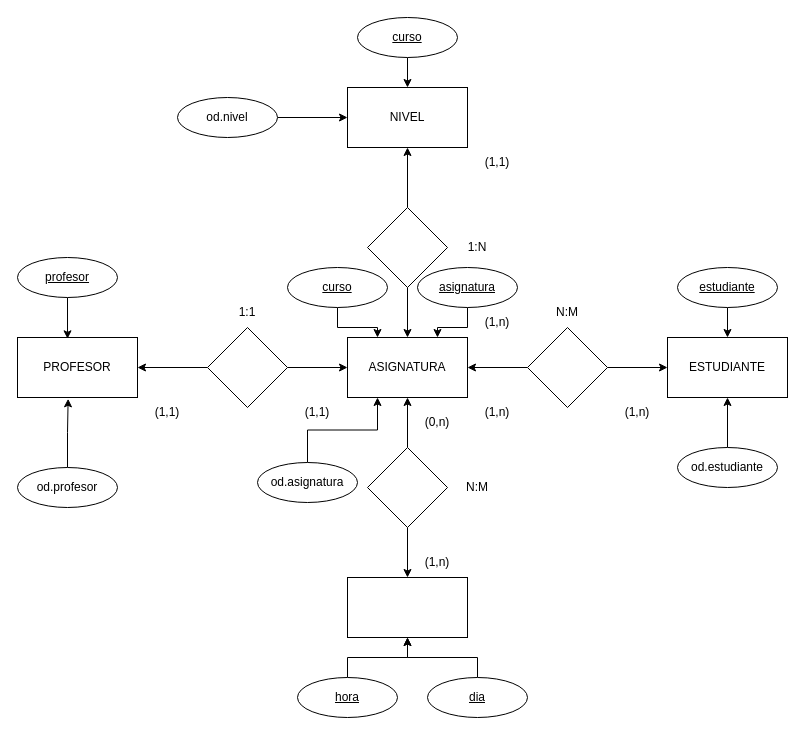
The diagram is 805 pixels wide and 735 high, and some of its shapes have lost their labels. Here are the shapes that lost their labels. From the top down, the centre of each, then its label:
At point 407,247: "impartida".
At point 247,367: "imparte".
At point 567,367: "estudia".
At point 407,487: "se imparte".
At point 407,607: "AULA".
